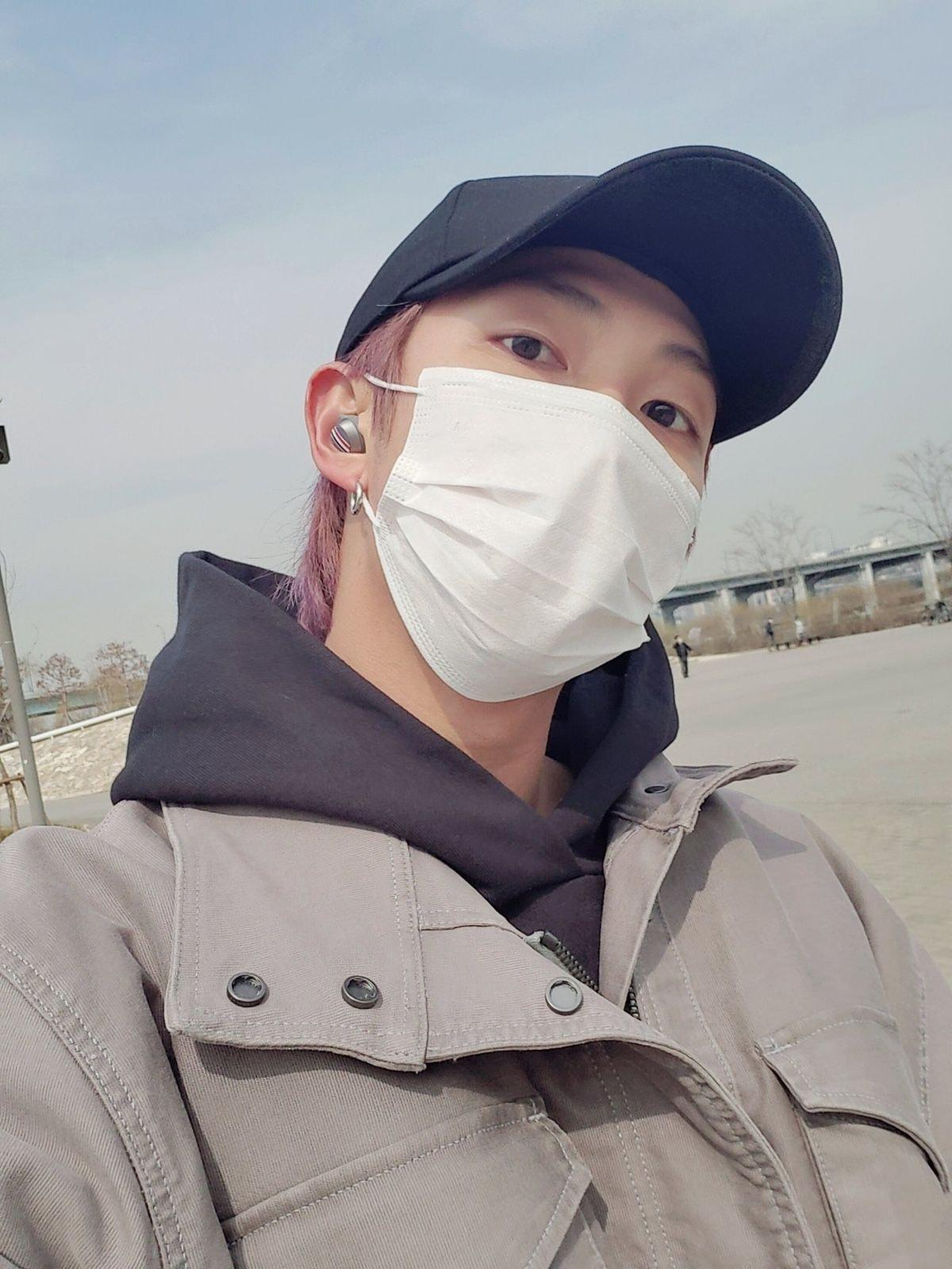earphone: (321, 413, 371, 453)
